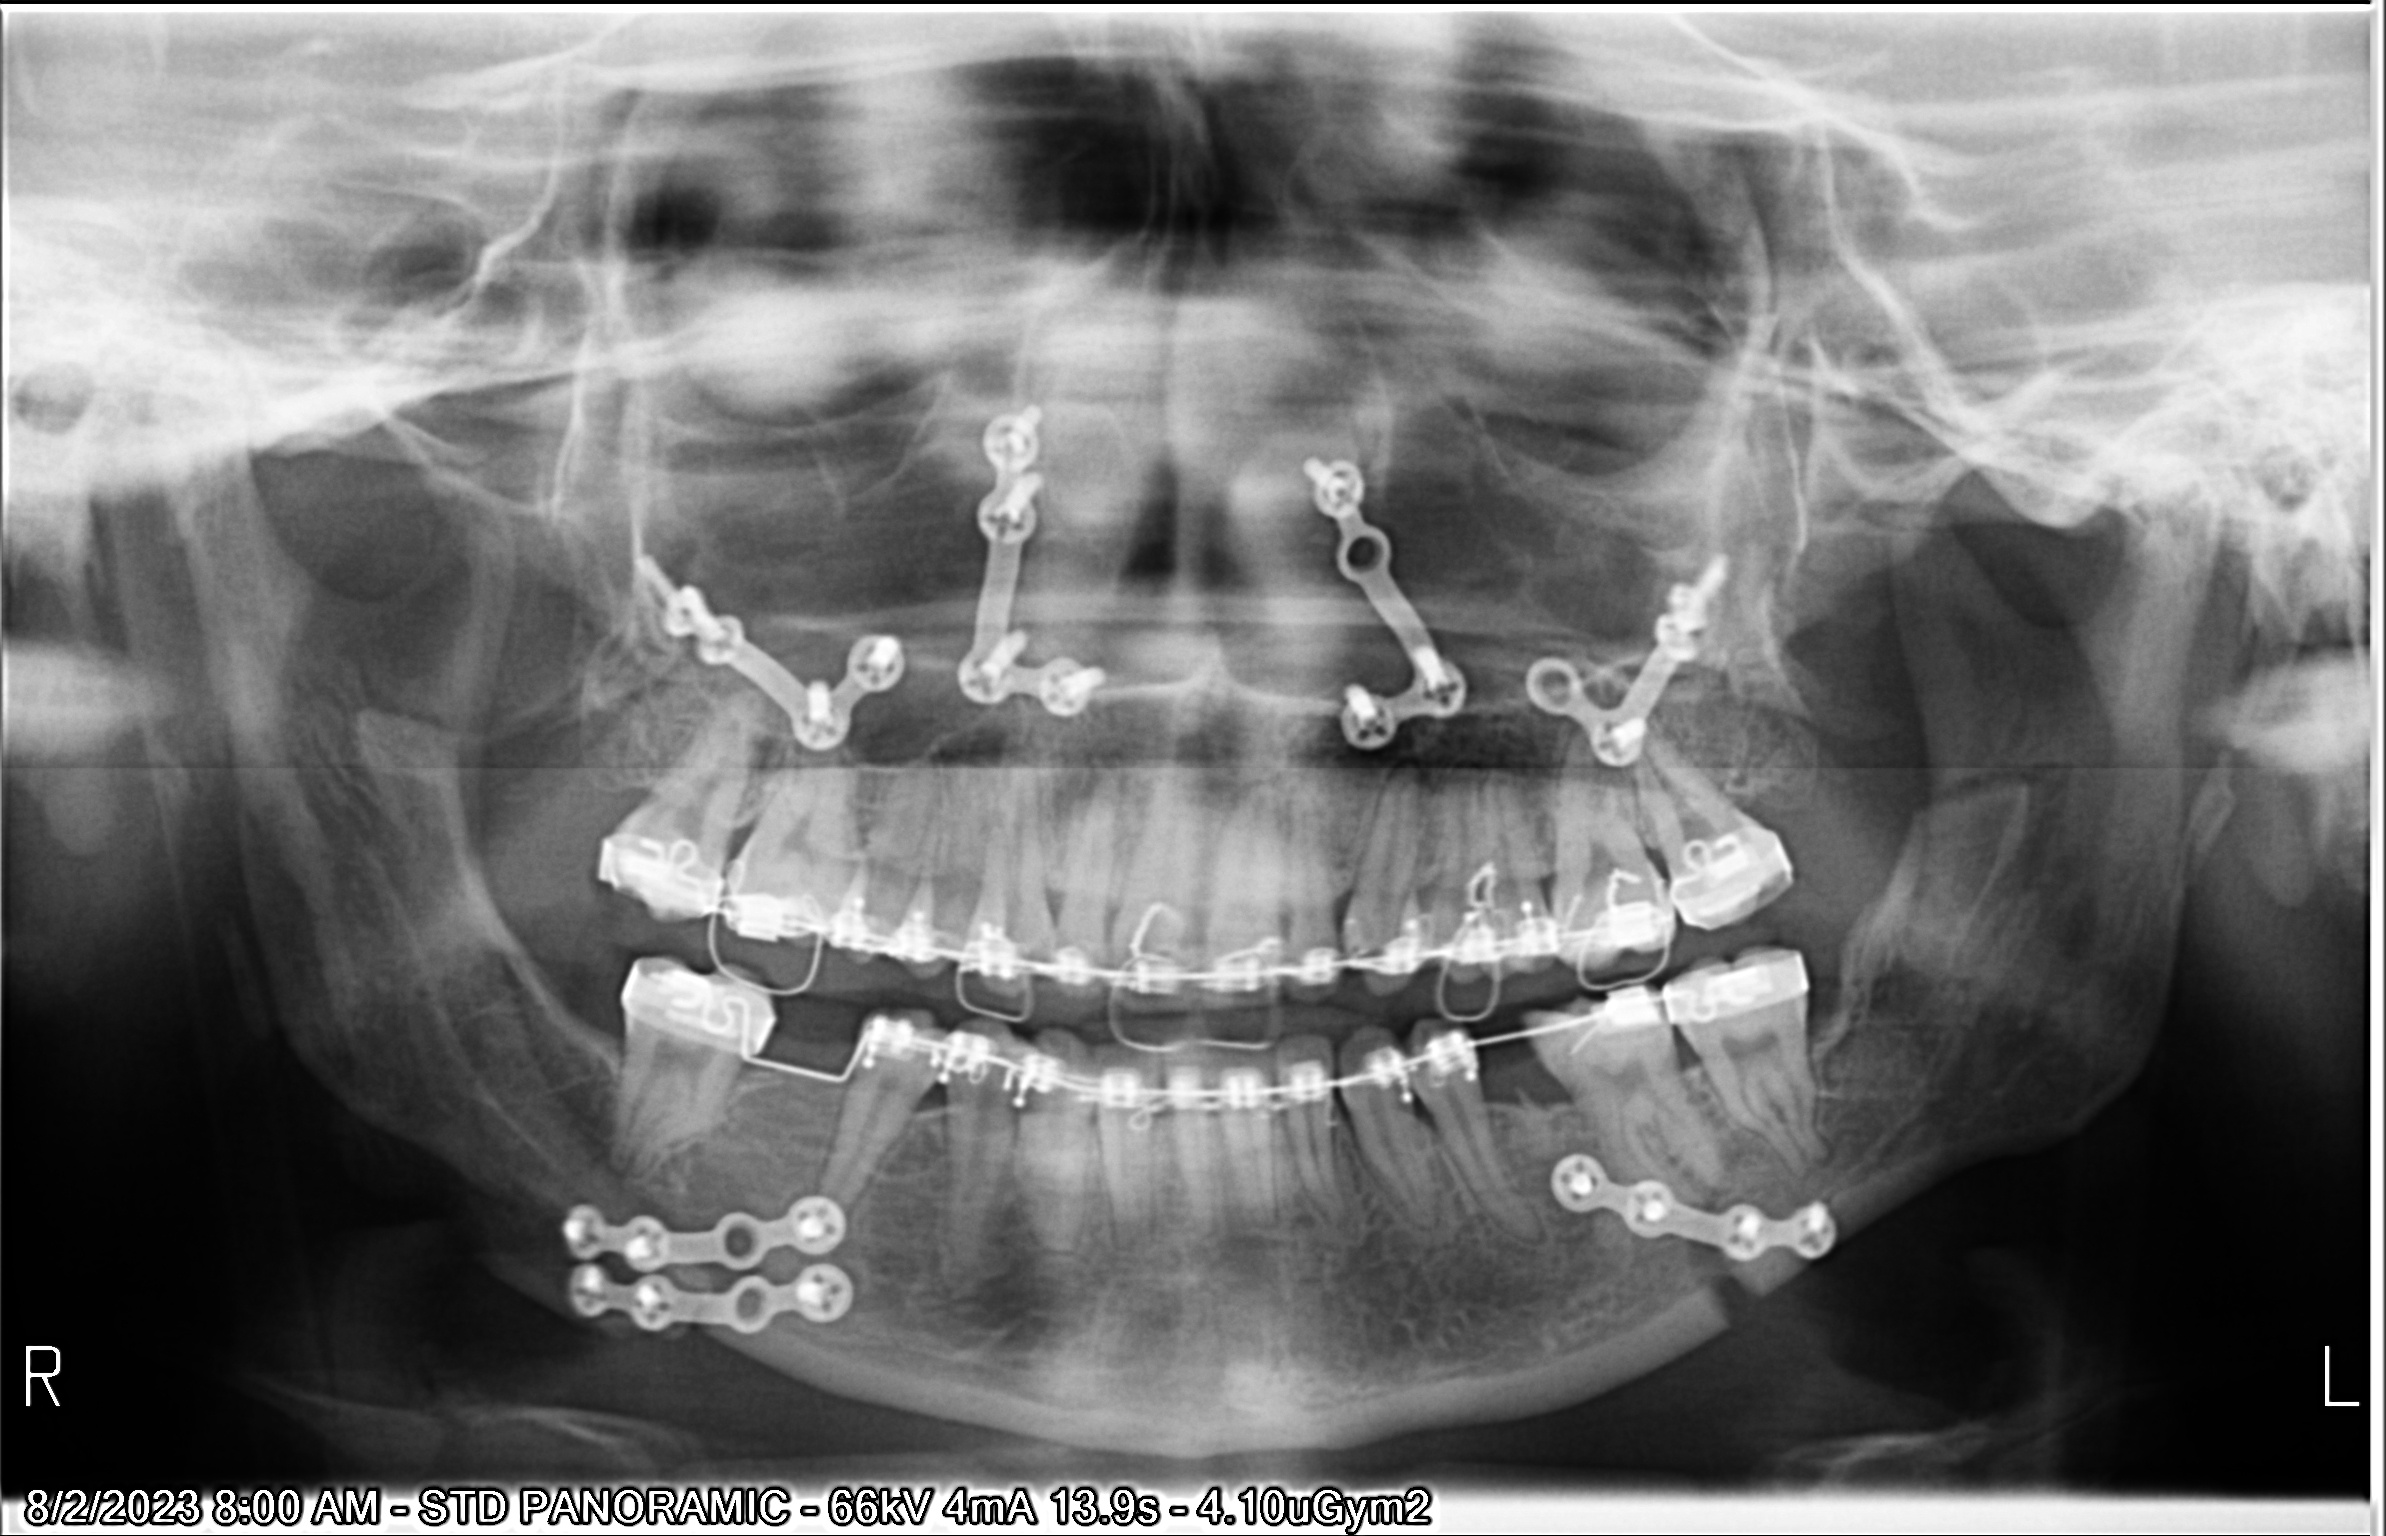BON: (1403, 1096, 1436, 1159)
ORD: (621, 1005, 1800, 1138), (609, 837, 1774, 964)
SRD: (1297, 416, 1480, 755), (974, 398, 1132, 696), (650, 551, 885, 743), (1562, 1155, 1842, 1291), (1548, 531, 1718, 751), (548, 1270, 885, 1372), (544, 1190, 859, 1258)
